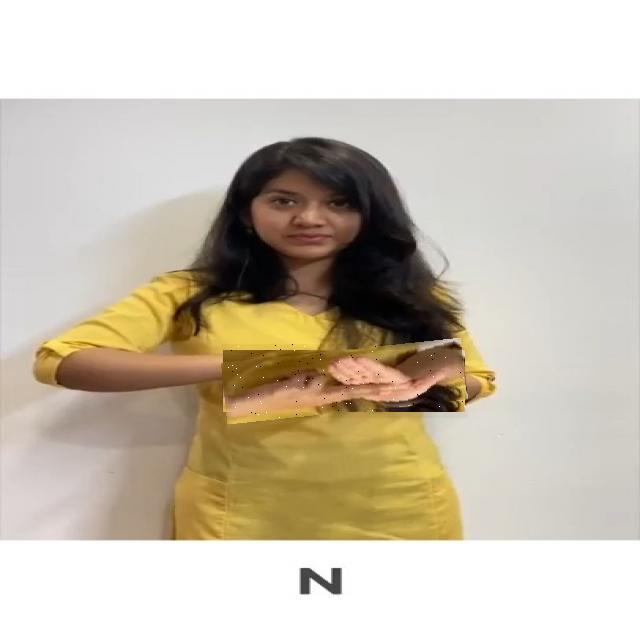N: (222, 344, 467, 418)
